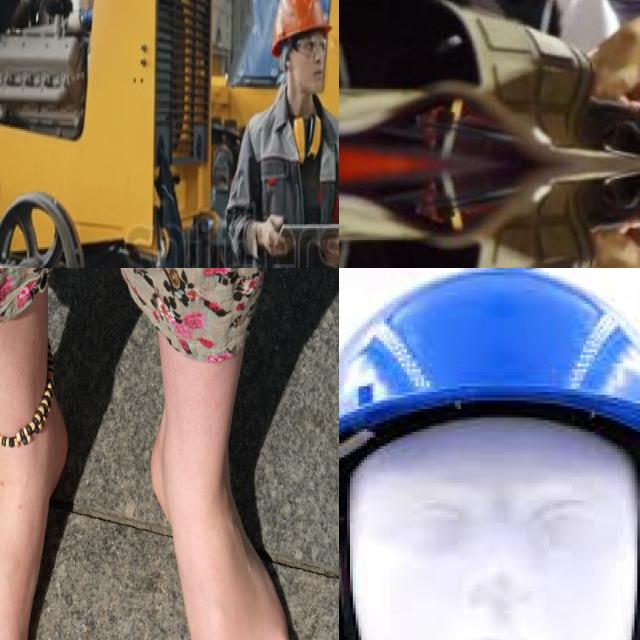Barefoots: (150, 411, 298, 640), (0, 389, 68, 640)
Ear-protection: (286, 109, 323, 168)
glasses: (288, 34, 334, 63)
hand_noglove: (594, 25, 639, 97)
head_helmet: (339, 268, 640, 477), (269, 0, 330, 38)
person: (232, 0, 339, 268)
